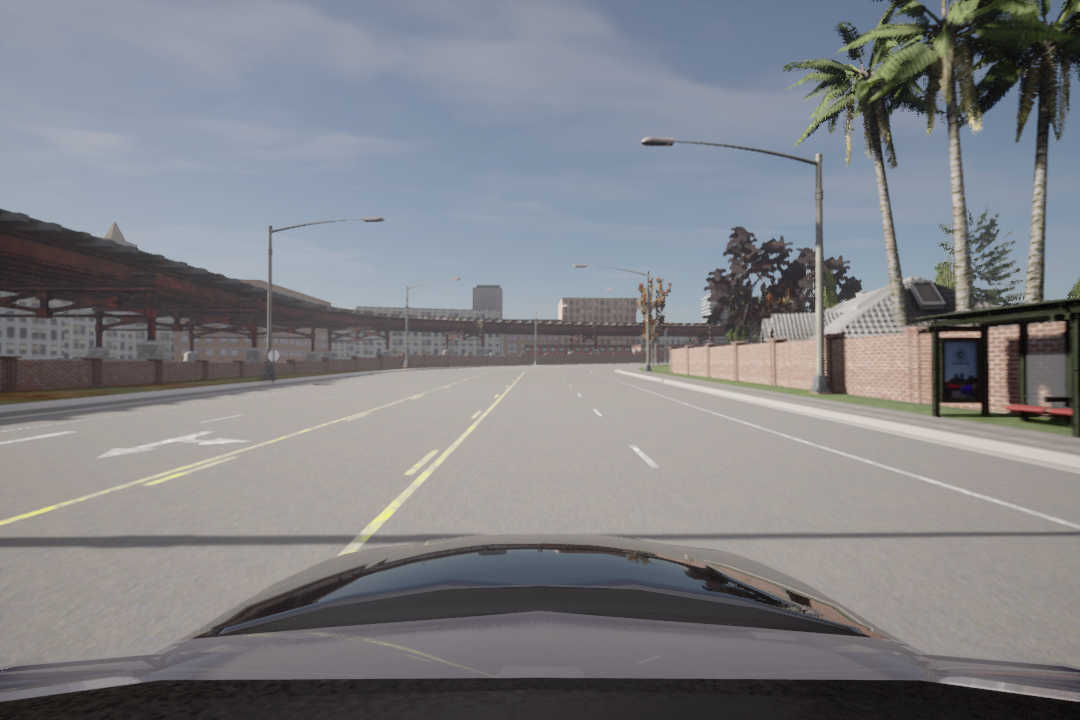RoadSign_forward_left: (88, 426, 247, 458)
